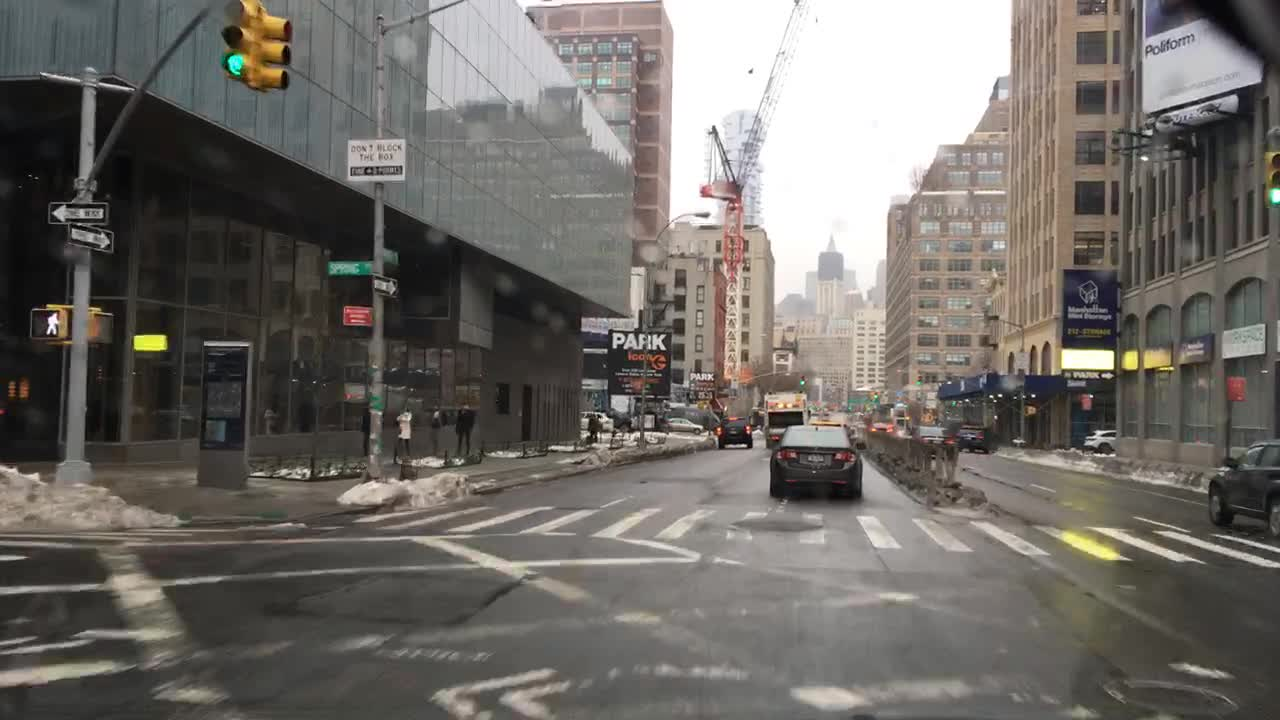car: (767, 422, 867, 501), (1205, 436, 1277, 539), (909, 424, 957, 457), (714, 416, 752, 450), (957, 424, 999, 452), (1081, 427, 1116, 459), (661, 416, 709, 436), (580, 411, 613, 431), (869, 420, 892, 434), (616, 416, 635, 431)
person: (391, 408, 413, 466), (426, 400, 448, 458), (452, 401, 475, 456), (359, 408, 371, 459), (586, 411, 602, 442)
traffic light: (215, 0, 258, 82), (257, 8, 294, 94), (27, 304, 72, 340), (89, 308, 116, 341), (798, 375, 804, 389), (872, 389, 879, 401)
traffic sign: (345, 136, 409, 182), (43, 200, 108, 227), (69, 219, 116, 255), (326, 259, 373, 275), (341, 306, 375, 326), (374, 274, 399, 298), (381, 249, 399, 264)
truck: (758, 393, 811, 450)
